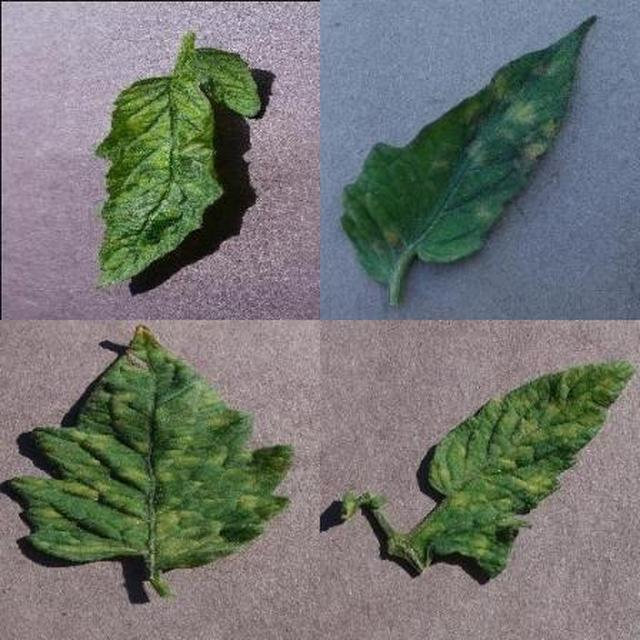Mosaic Virus Leaf: (214, 216, 640, 640)
